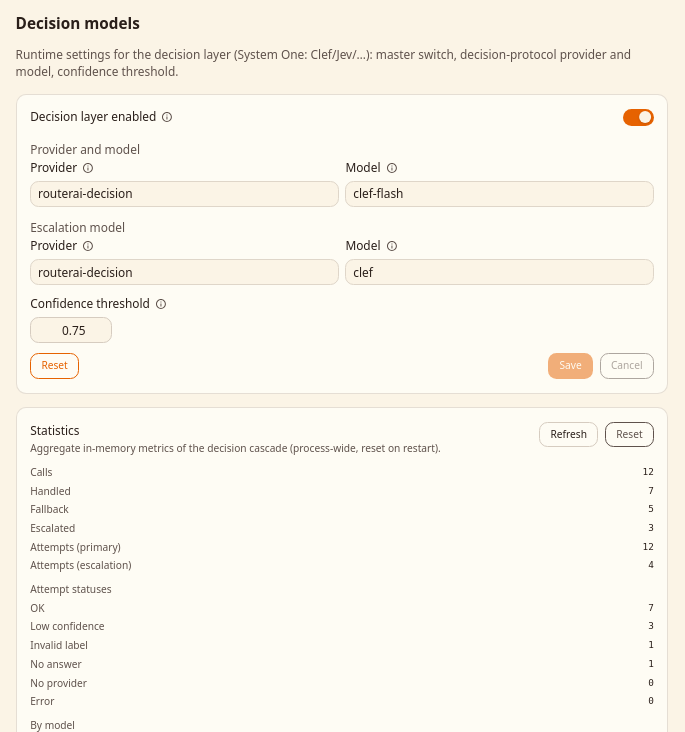
Test case: DecisionSettings — админ-раздел «Decision-модели» (ADR-084) › Reset вызывает resetDecisionSettings и подставляет дефолты
Click the button with test id "decision-config-reset".
click(55, 366)  # box [30, 353, 79, 379]
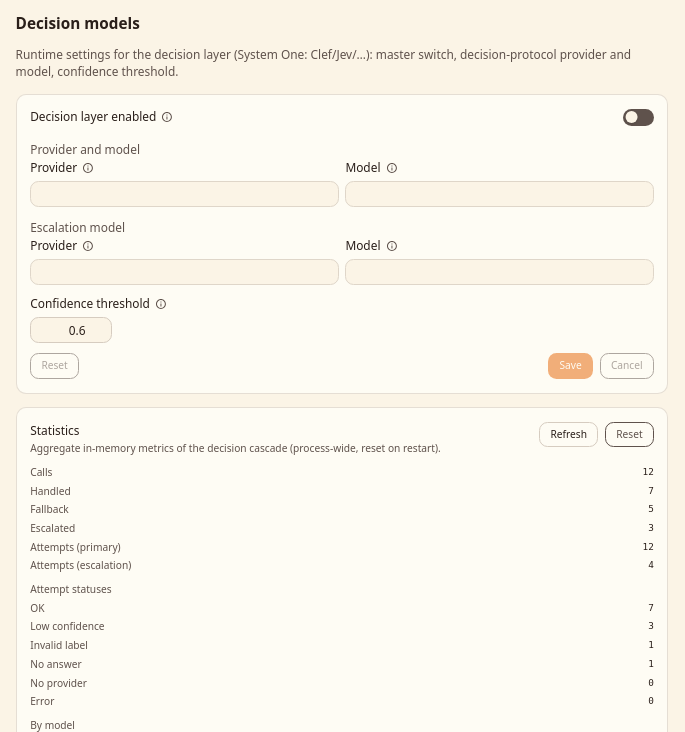
Expected: the number field with test id "decision-config-confidence" holds "0.6", [30, 317, 112, 343]
